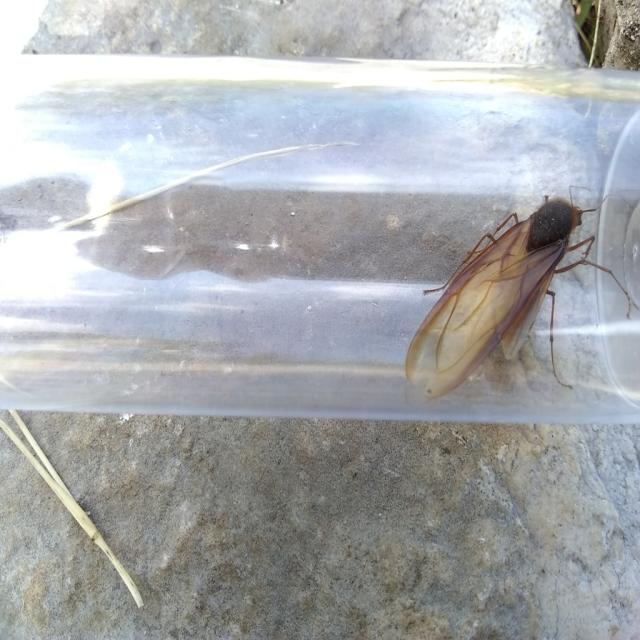Alive-Male-Alate: (404, 184, 640, 400)
